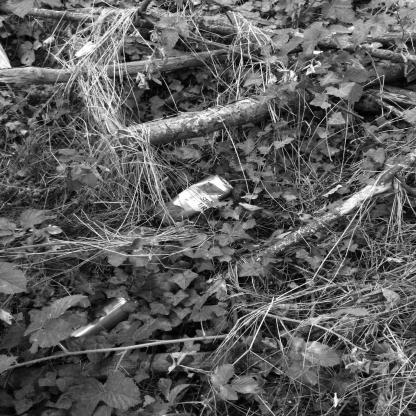metal: (164, 174, 235, 223), (74, 296, 138, 344)
